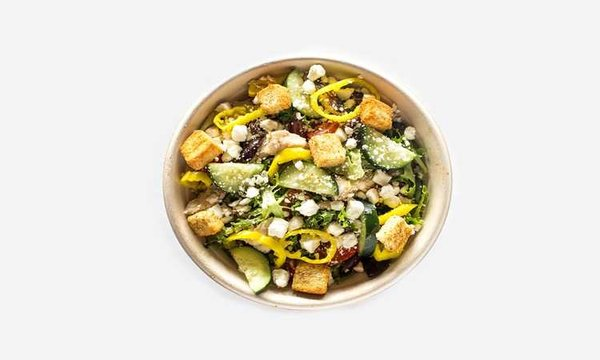curry: (356, 123, 425, 173)
sushi: (161, 53, 454, 312)
